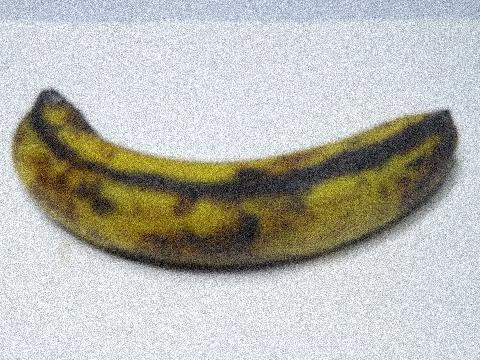overripe: (24, 71, 461, 265)
